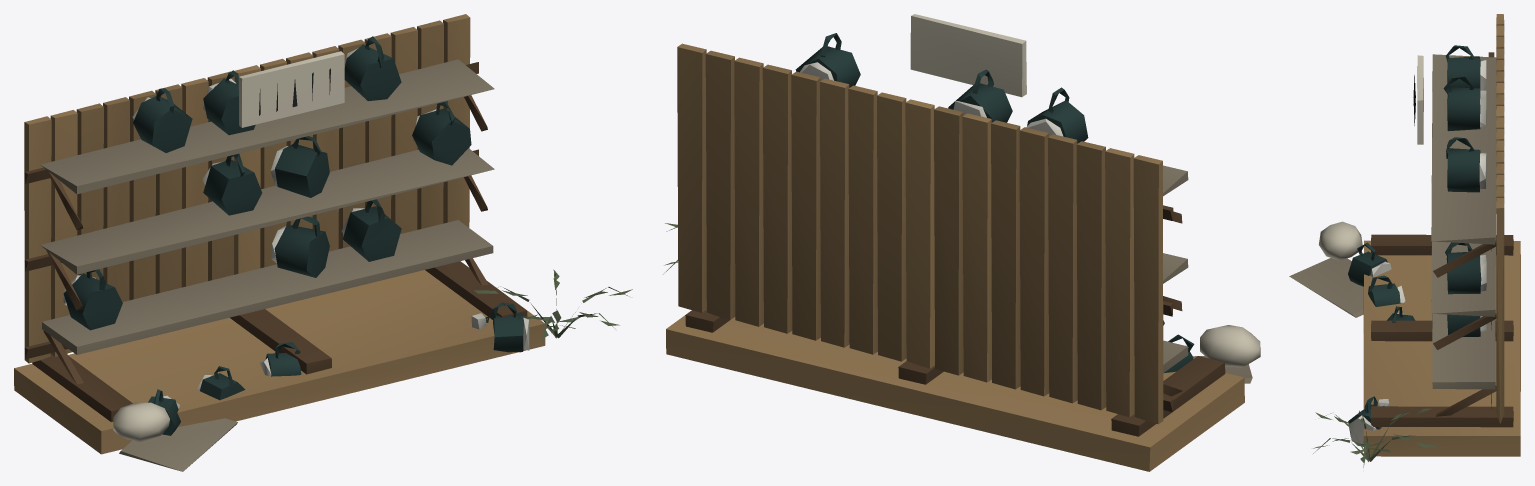
File: lamp_rack_b_lod2.glb
The picture shows the model from 3 angles, left to right: view 1: azimuth 30°, elevation 25°; view 2: azimuth 150°, elevation 25°; view 3: azimuth 270°, elevation 25°; orthographic projection. The views are drawn at different scales.
Visible parts, largest first — view 1: Surface.001; view 2: Surface.001; view 3: Surface.001.
Part boxes in pixels (x1,y1,x2,y2): Surface.001: [14, 14, 632, 471]; Surface.001: [663, 14, 1260, 471]; Surface.001: [1289, 14, 1520, 467].
Bounding box in the file's own units: 7.7 × 4.29 × 3.2.
